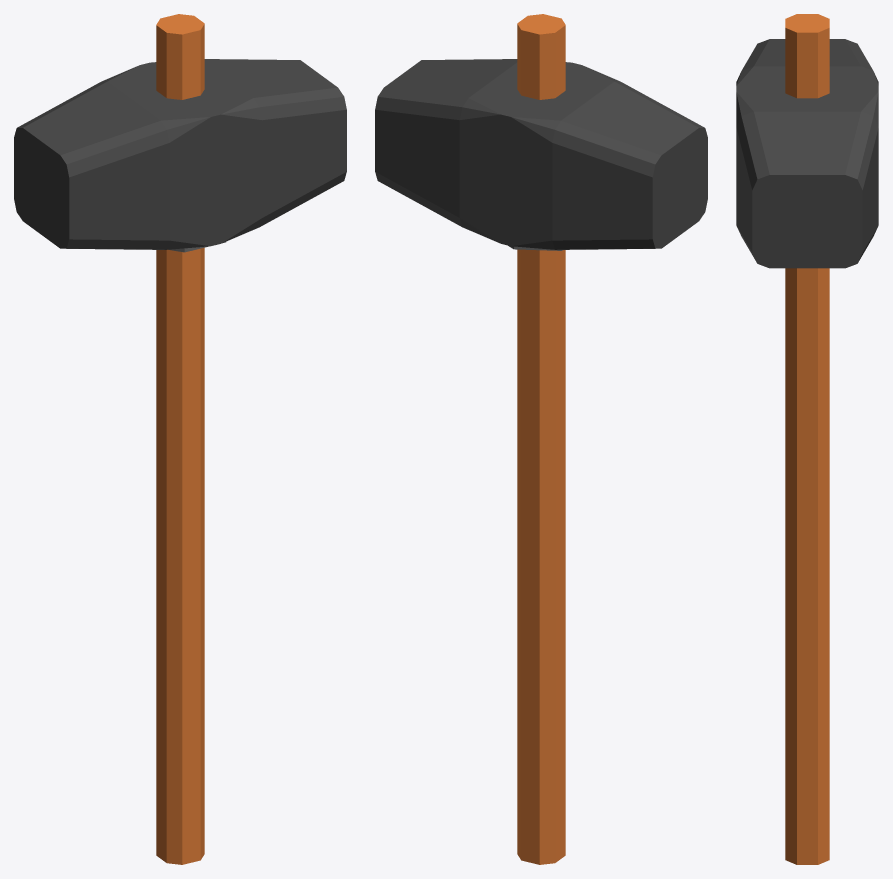
File: Hammer.fbx
3 views of the same model, side by side, from view 1: azimuth 30°, elevation 25°; view 2: azimuth 150°, elevation 25°; view 3: azimuth 270°, elevation 25° (orthographic).
Parts seen in each view (by area): view 1: 円柱.003; view 2: 円柱.003; view 3: 円柱.003.
Boxes of the visible parts, x1,y1,x2,y2 form: 円柱.003: [14, 14, 346, 864]; 円柱.003: [375, 14, 707, 864]; 円柱.003: [736, 14, 878, 864].
Bounding box in the file's own units: 1.08 × 3.08 × 0.4769.
